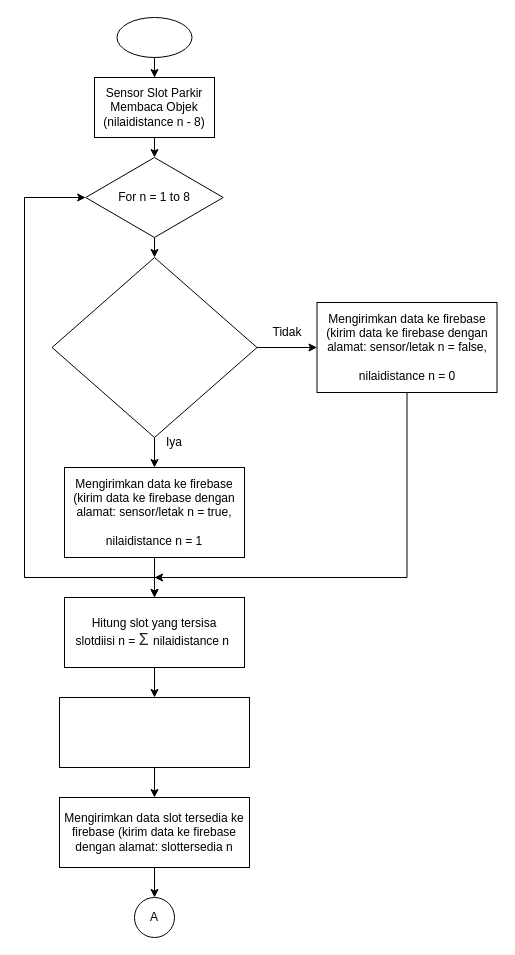
Some shapes in this 515 by 955 pixel diagram are drawn without their labels. The shapes that lost their labels are listed below. From the top down, each one's centre as x and y in pixels, then its label:
At (154,37): "Mulai".
At (154,347): "Jarak sensor (distance n) dengan objek < 6 cm?".
At (154,732): "Hitung slot yang tersedia slottersedia n = totalslot - slotdiisi n".
